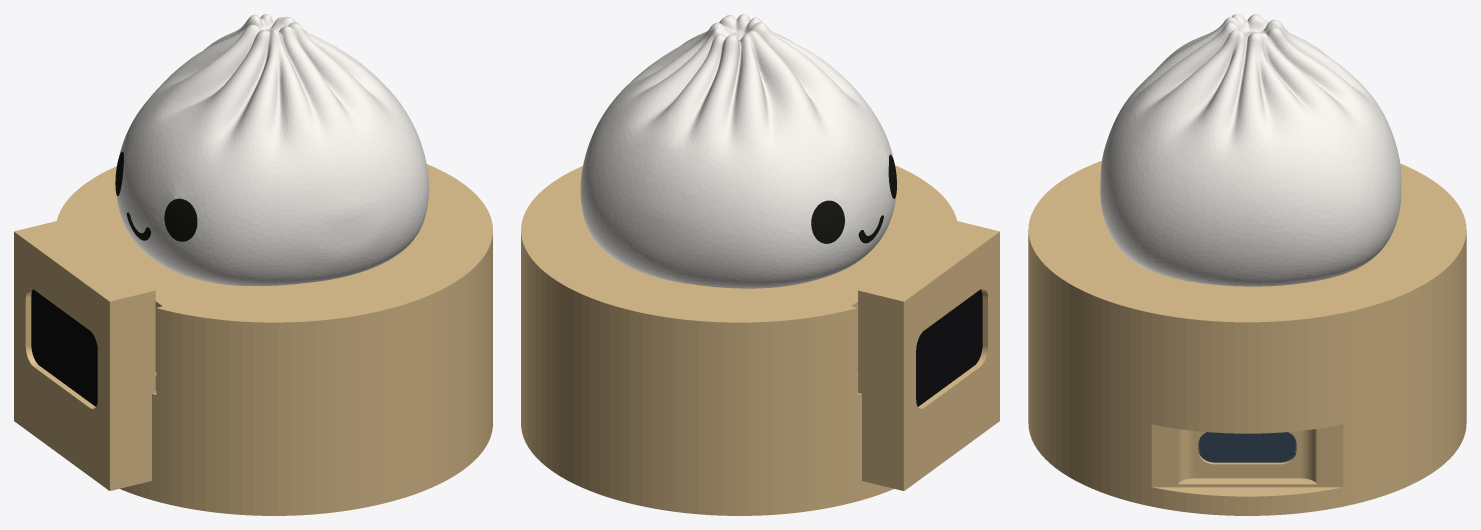
The model's file is dimsum_clicker_single.glb.
The picture shows the model from 3 angles, left to right: view 1: azimuth 30°, elevation 25°; view 2: azimuth 150°, elevation 25°; view 3: azimuth 270°, elevation 25°; orthographic projection.
Parts seen in each view (by area): view 1: floor2_esp32, bun_body, floor3_switch_lid, bun_face; view 2: floor2_esp32, bun_body, floor3_switch_lid, bun_face; view 3: floor3_switch_lid, bun_body, floor2_esp32, esp32_board.
Boxes of the visible parts, x1,y1,x2,y2 form: floor2_esp32: (14,220,492,515); bun_body: (116,14,428,285); floor3_switch_lid: (57,164,492,409); bun_face: (115,151,197,241); floor2_esp32: (521,220,999,515); bun_body: (580,14,895,288); floor3_switch_lid: (521,165,956,409); bun_face: (811,154,896,243); floor3_switch_lid: (1028,160,1466,409); bun_body: (1100,14,1401,286); floor2_esp32: (1028,317,1466,515); esp32_board: (1198,432,1296,462).
Bounding box in the file's own units: 43.5 × 41.57 × 41.
